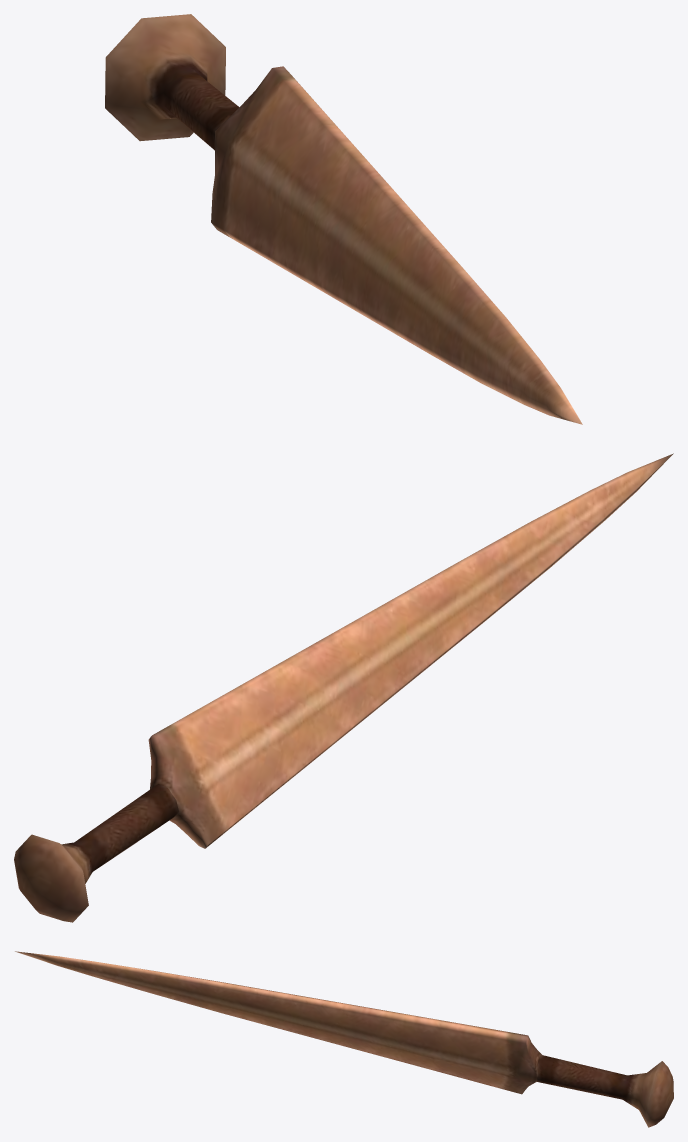
The model's file is rider-weapon-slice-base.glb.
3 views of the same model, one above another, from view 1: azimuth 30°, elevation 25°; view 2: azimuth 150°, elevation 25°; view 3: azimuth 270°, elevation 25° (orthographic). The views are drawn at different scales.
Size of the model in its own units: 0.2389 by 0.1924 by 0.9764.
1 material, 1 textured.
